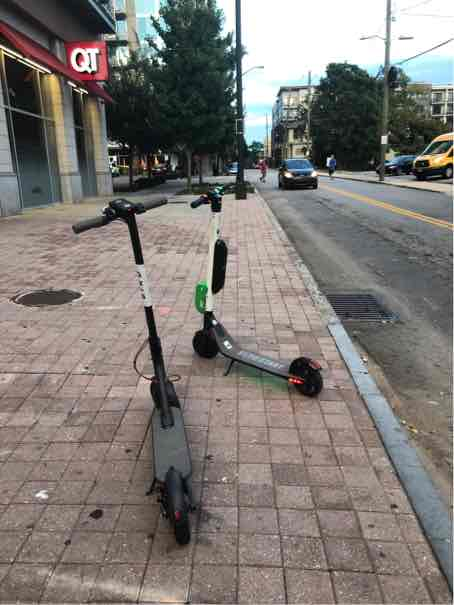scooter: (176, 175, 326, 398)
